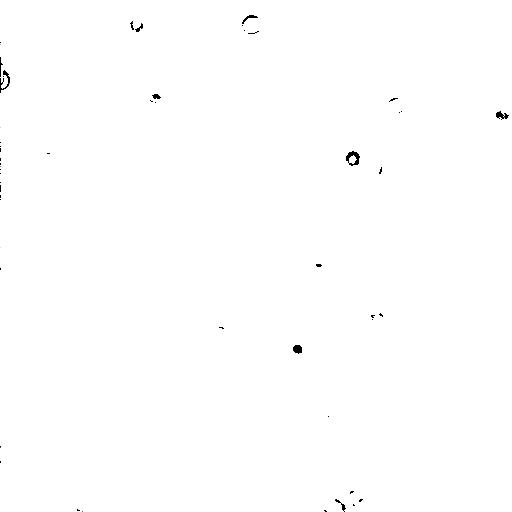micro-algae: (289, 164, 331, 209), (276, 327, 316, 366), (301, 245, 329, 275), (100, 0, 138, 21), (34, 133, 61, 155), (346, 485, 370, 509), (239, 13, 265, 35), (341, 148, 363, 169), (378, 155, 399, 177), (490, 105, 511, 127), (487, 183, 508, 205), (369, 302, 385, 330), (320, 495, 345, 511), (384, 96, 407, 113), (127, 16, 145, 33), (1, 59, 9, 92), (487, 1, 511, 12), (1, 69, 11, 90)
